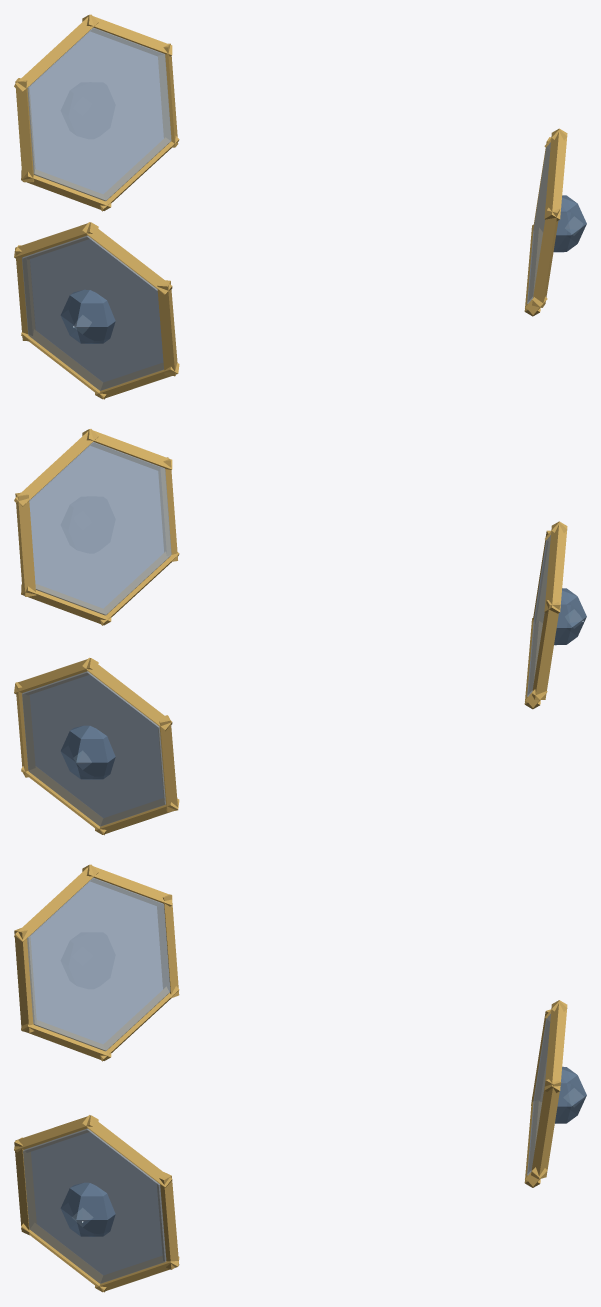
The model's file is EliteAura_Shield.fbx.
The picture shows the model from 3 angles, top to bottom: view 1: azimuth 30°, elevation 25°; view 2: azimuth 150°, elevation 25°; view 3: azimuth 270°, elevation 25°; orthographic projection.
Parts seen in each view (by area): view 1: Plates, Rims, Bosses; view 2: Plates, Rims, Bosses; view 3: Plates, Rims, Bosses.
Part boxes in pixels (x1,y1,x2,y2): Plates: (22, 27, 550, 390); Rims: (14, 14, 567, 399); Bosses: (60, 195, 586, 343); Plates: (22, 442, 550, 826); Rims: (14, 429, 567, 835); Bosses: (60, 588, 586, 779); Plates: (23, 877, 550, 1283); Rims: (14, 864, 567, 1292); Bosses: (60, 1066, 586, 1236).
Size of the model in its own units: 4 by 1.46 by 3.63.
